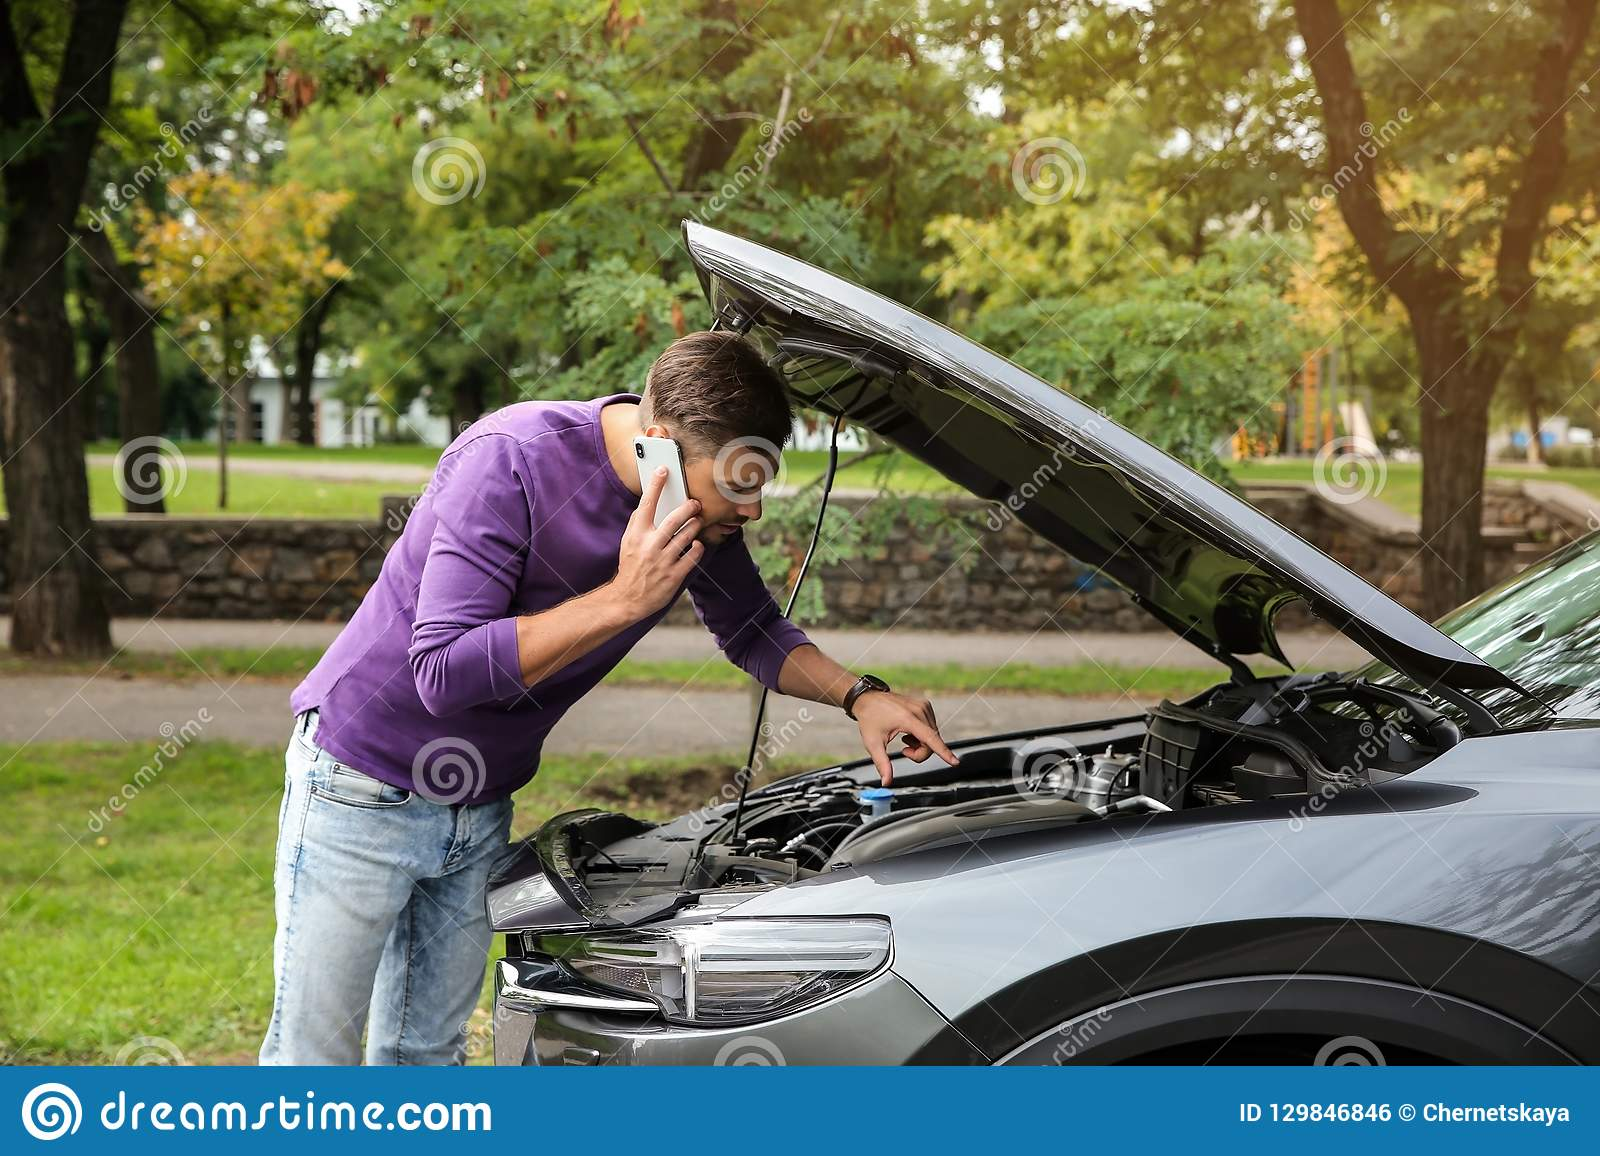phone: (631, 432, 692, 548)
talk: (617, 431, 765, 618)
